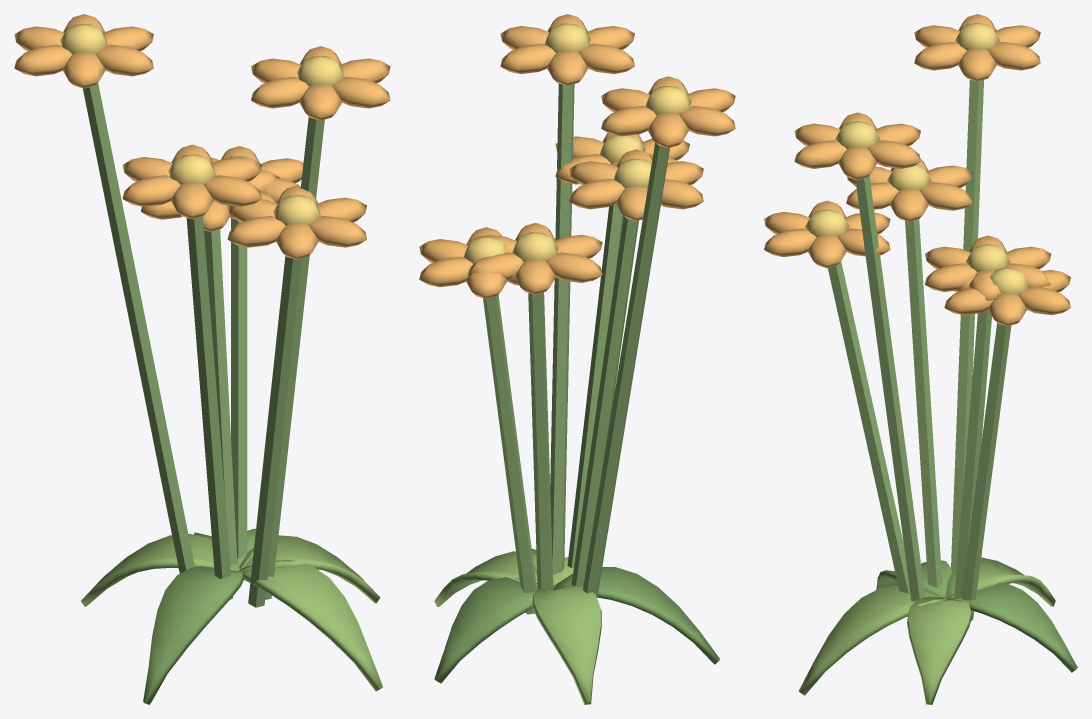
File: Flowers_Orange.gltf
3 views of the same model, side by side, from view 1: azimuth 30°, elevation 25°; view 2: azimuth 150°, elevation 25°; view 3: azimuth 270°, elevation 25° (orthographic). The views are drawn at different scales.
Visible parts, largest first — view 1: Flowers_Orange; view 2: Flowers_Orange; view 3: Flowers_Orange.
Part boxes in pixels (x1,y1,x2,y2): Flowers_Orange: (14,14,390,704); Flowers_Orange: (419,14,735,704); Flowers_Orange: (764,14,1077,704).
Size of the model in its own units: 0.631 by 1.14 by 0.5587.
